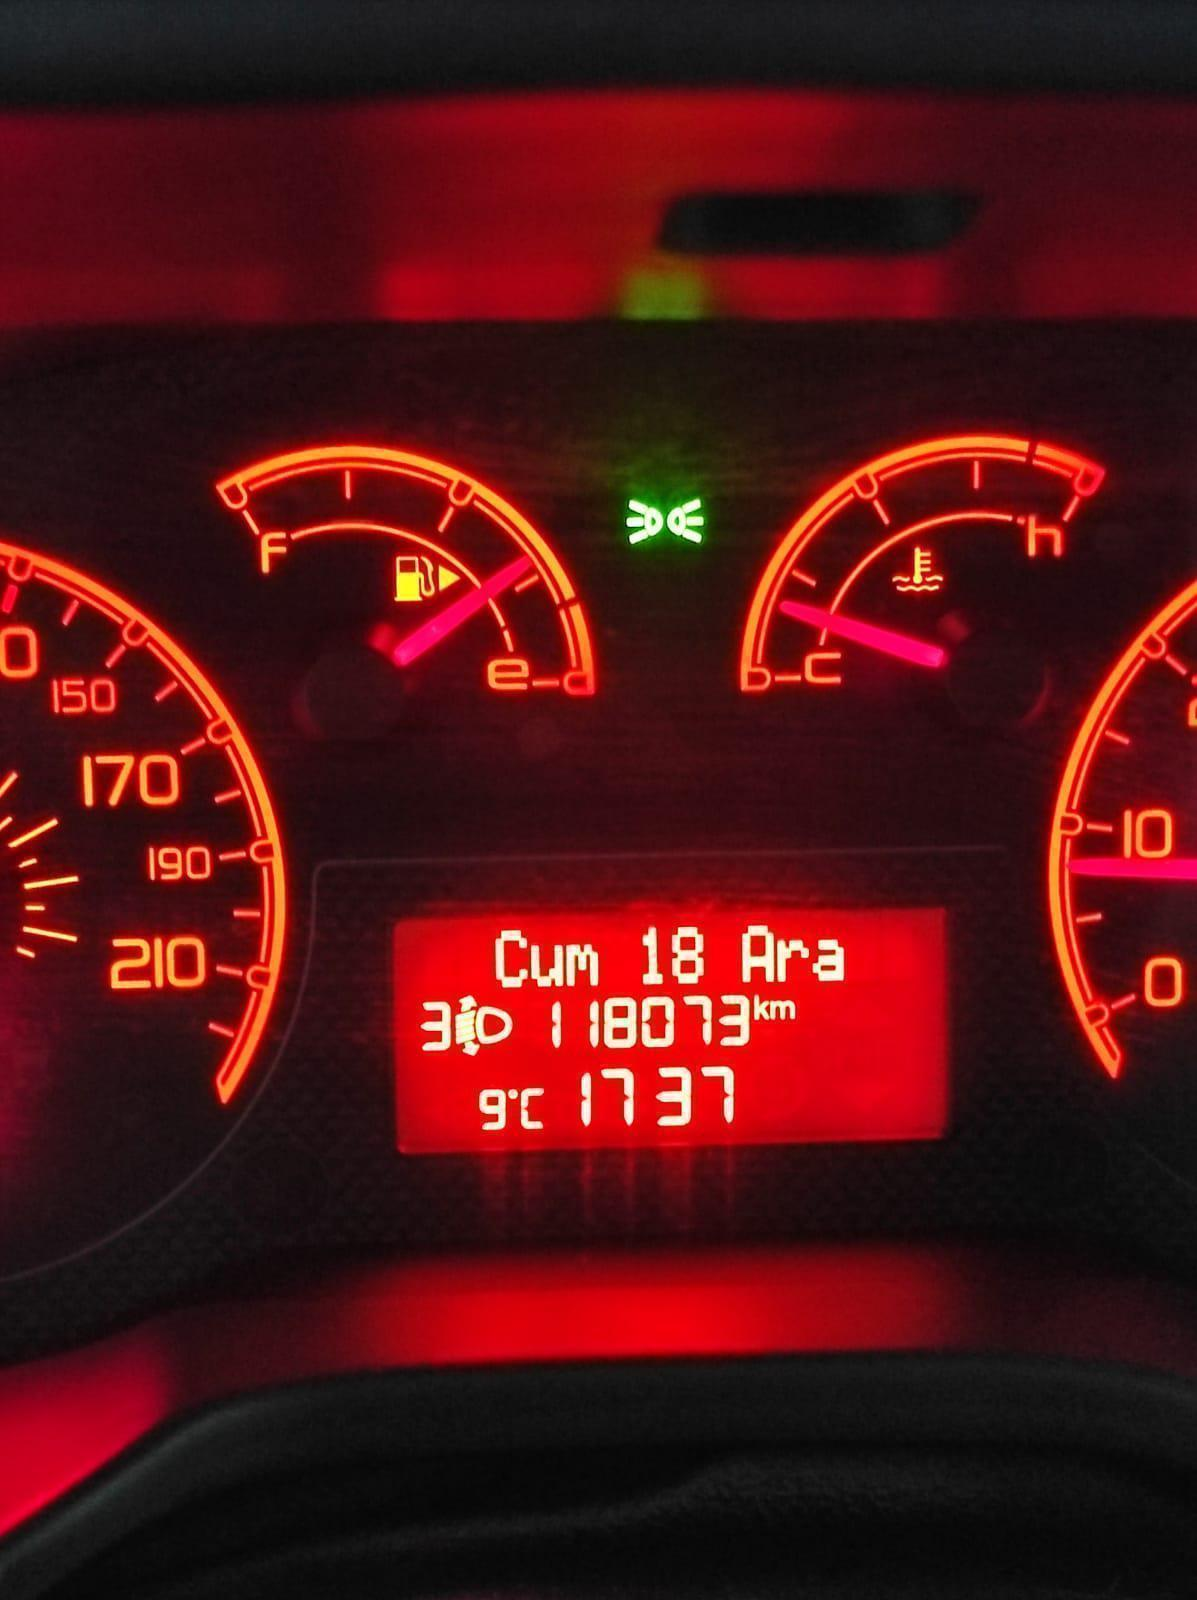0: (639, 993, 676, 1051)
1: (637, 921, 666, 987), (544, 998, 568, 1051), (575, 1067, 595, 1129), (582, 995, 602, 1051)
3: (648, 1063, 692, 1131), (416, 997, 453, 1055), (715, 990, 751, 1049)
7: (697, 1060, 736, 1129), (598, 1065, 637, 1126), (676, 992, 713, 1047)
8: (669, 923, 707, 987), (601, 993, 637, 1049)
9: (477, 1086, 505, 1132)
X: (492, 926, 529, 990), (741, 920, 776, 985), (810, 933, 846, 985), (562, 941, 601, 989), (776, 935, 811, 984), (529, 940, 563, 990), (521, 1085, 548, 1132), (769, 998, 798, 1021), (751, 990, 769, 1023)
odometer: (383, 884, 957, 1161)
